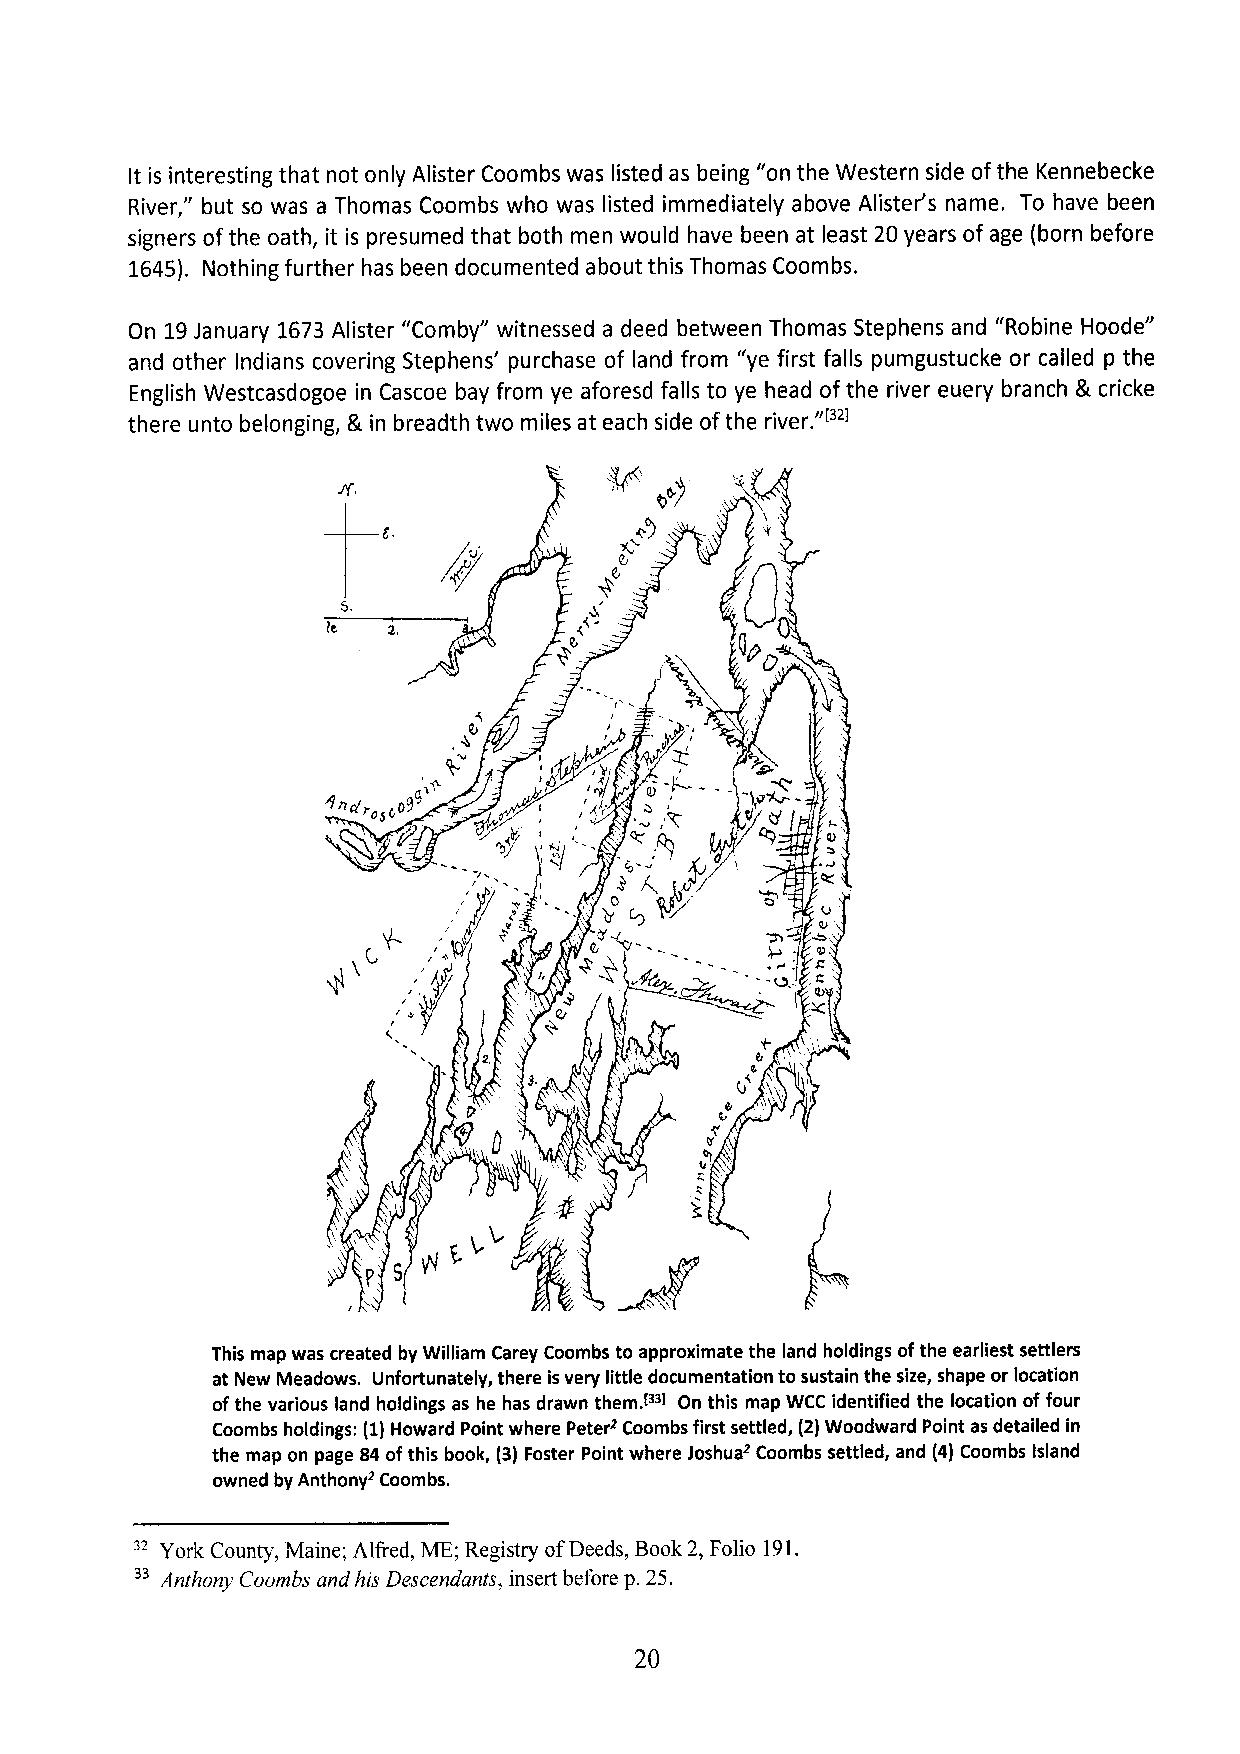content: (123, 154, 1162, 1589)
content_pagenumber: (629, 1643, 662, 1675)
